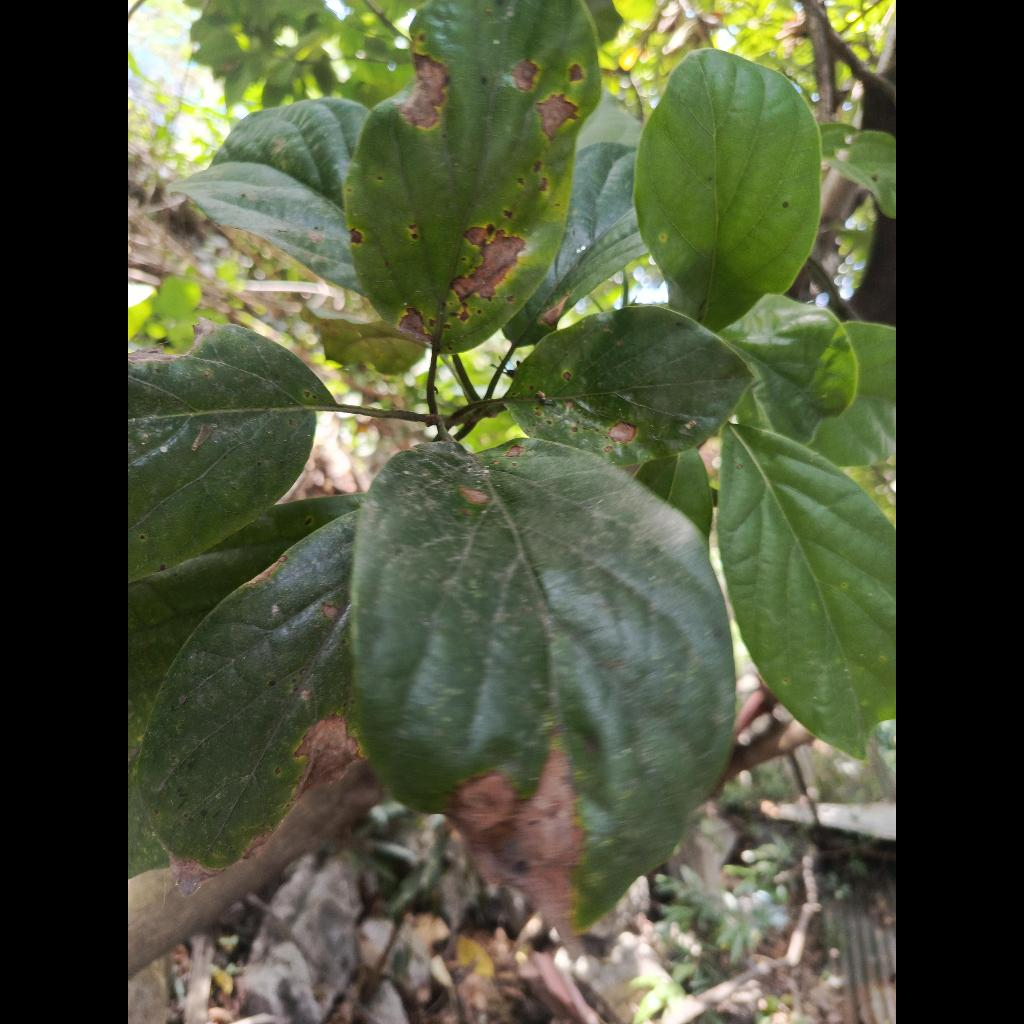antracnosis_hoja: (353, 439, 735, 930), (342, 0, 600, 356)
